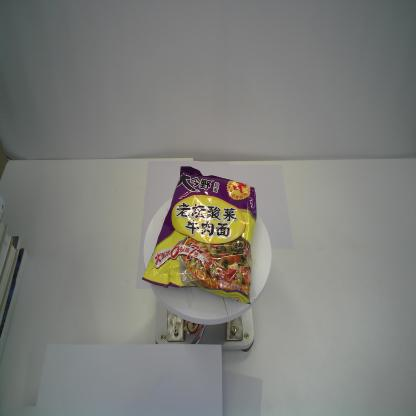Instant Noodles: (141, 164, 258, 308)
